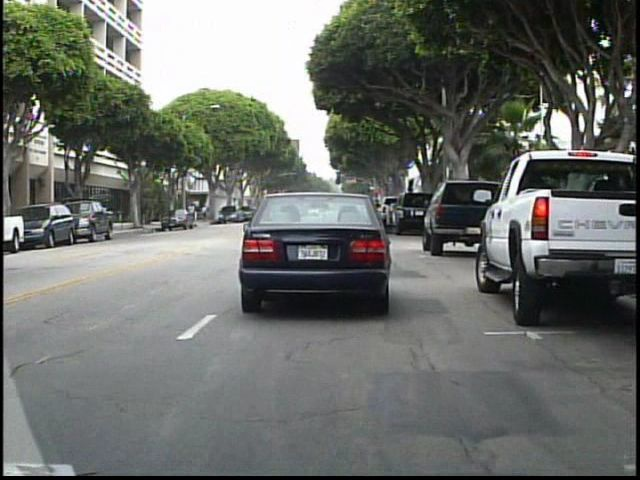person: (186, 202, 198, 227), (199, 202, 211, 226)
